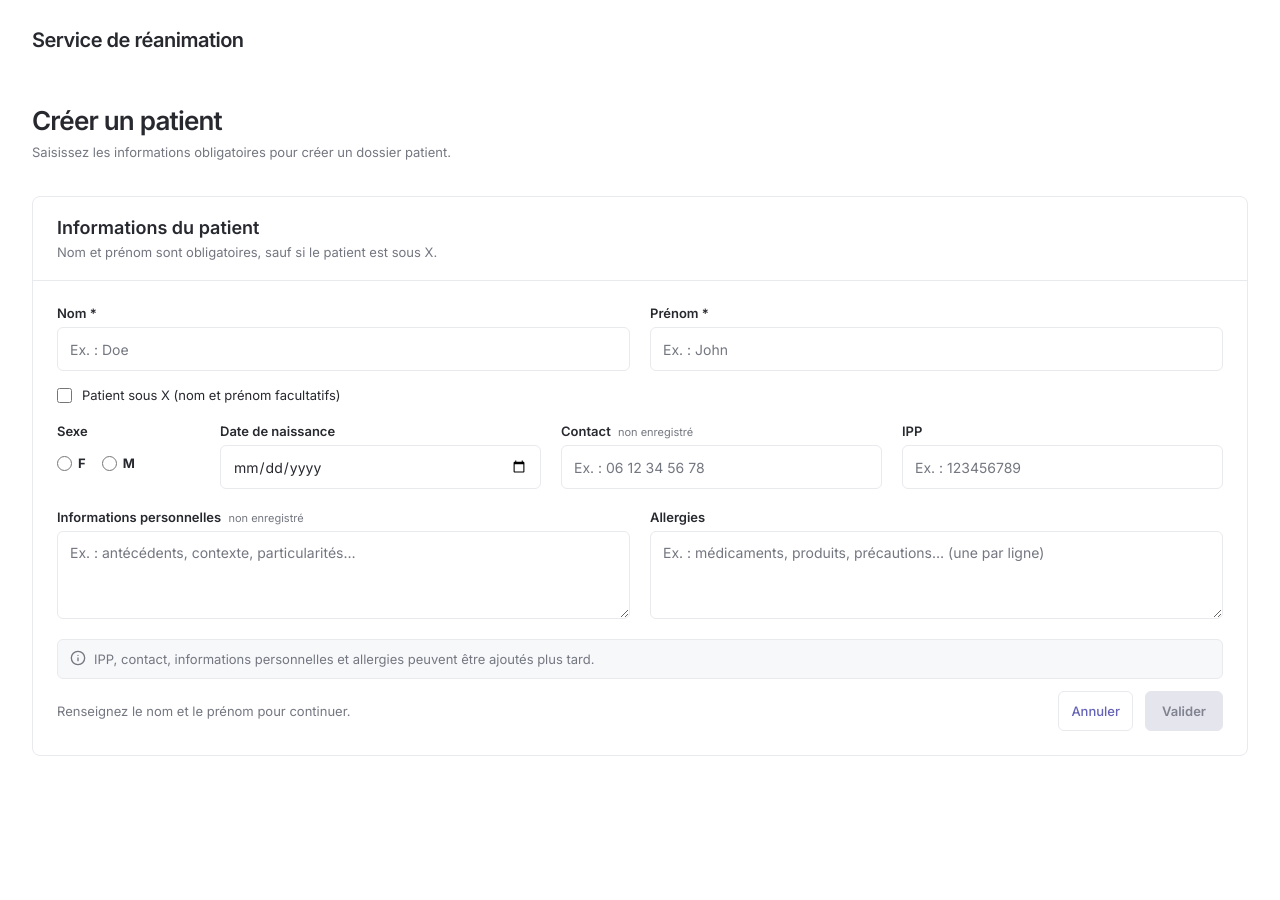
Scenario: shows the backend message when the IPP is already registered
This screenshot has width=1280, height=900.
Click the checkbox labelled "Patient sous X (nom et prénom facultatifs)".
click(64, 395)  # box [57,388,72,402]
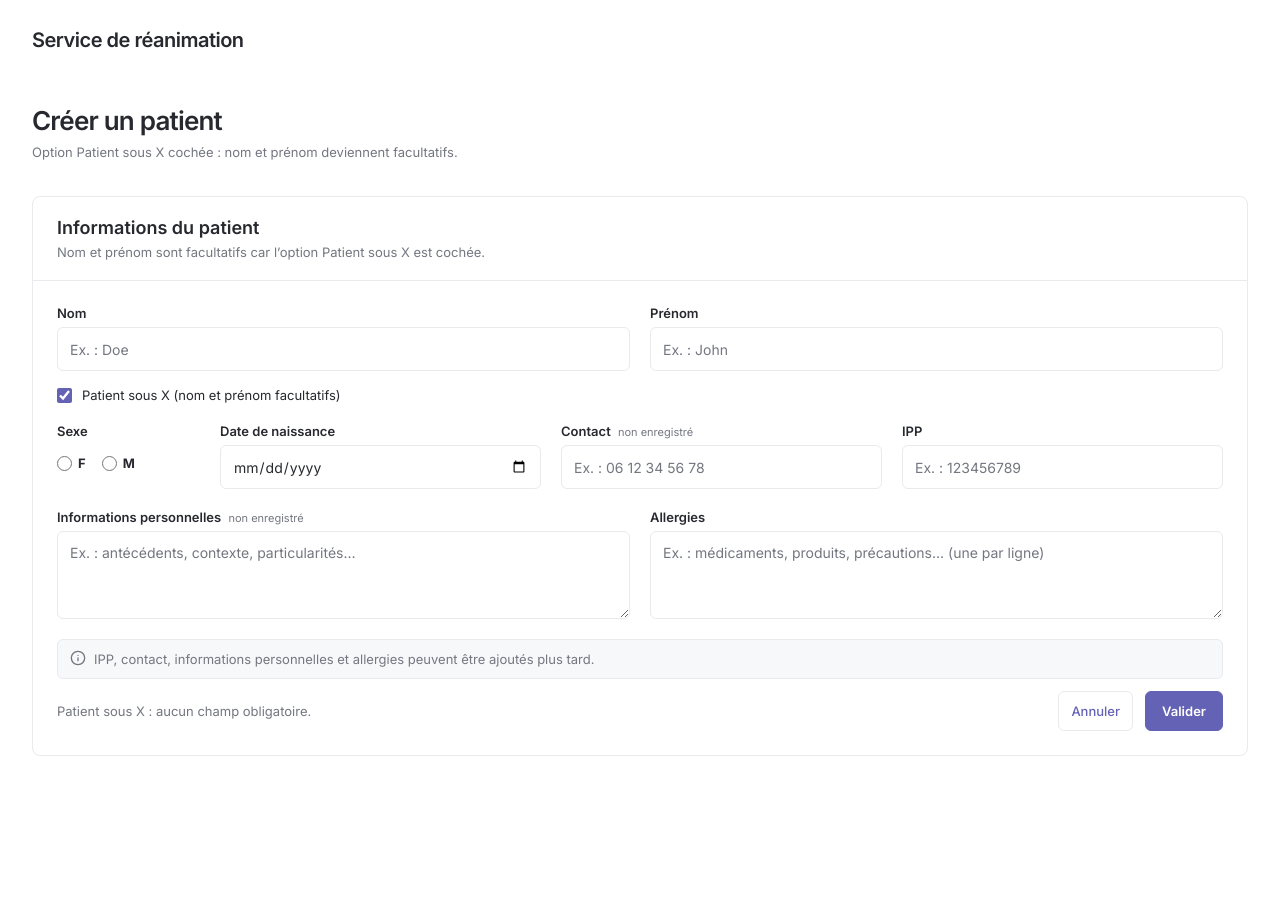
Submit the form, box [32,196,1248,756]
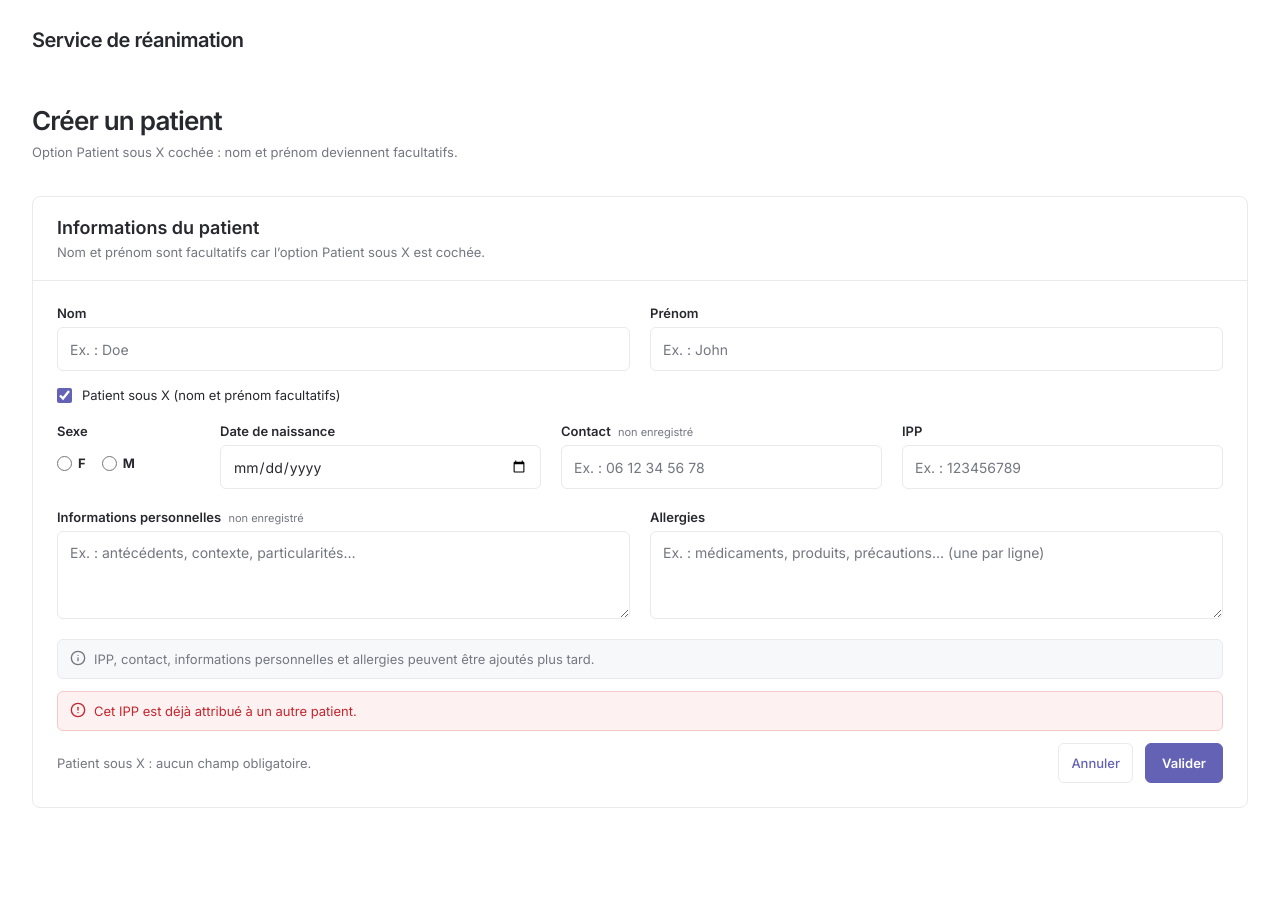
Check: the message "Cet IPP est déjà attribué à un autre patient." is shown, box [57,691,1223,731]
